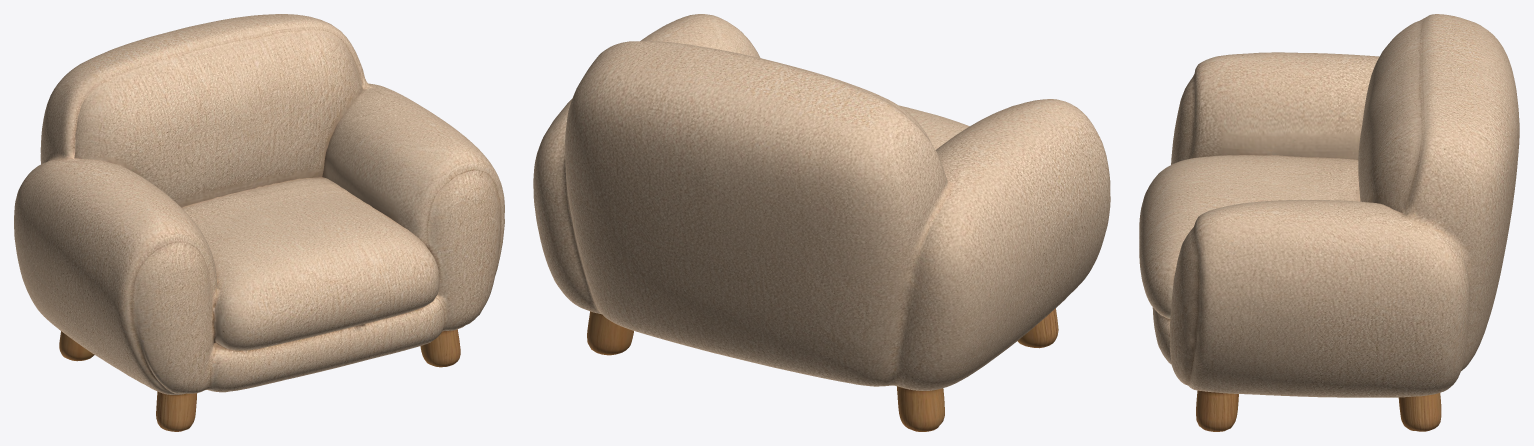
3 renders of one model, left to right at view 1: azimuth 30°, elevation 25°; view 2: azimuth 150°, elevation 25°; view 3: azimuth 270°, elevation 25°, orthographic. The views are drawn at different scales.
Parts seen in each view (by area): view 1: tripo_node_35e147c0; view 2: tripo_node_35e147c0; view 3: tripo_node_35e147c0.
Boxes of the visible parts, bbox=[...] form: tripo_node_35e147c0: bbox=[14, 14, 504, 431]; tripo_node_35e147c0: bbox=[533, 14, 1110, 431]; tripo_node_35e147c0: bbox=[1139, 14, 1519, 431].
Bounding box in the file's own units: 99.98 × 68.43 × 79.04.
1 material, 1 textured.
